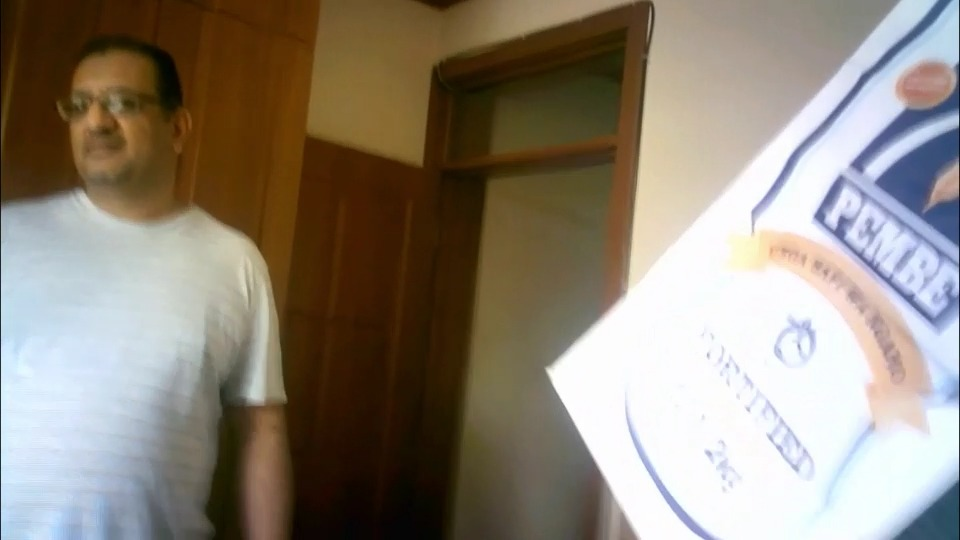wheat_flour_blue_label: (546, 3, 960, 540)
